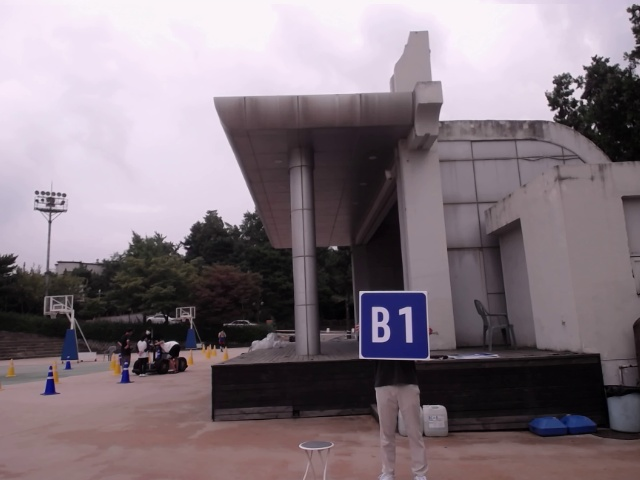delivery_b1: (360, 291, 429, 360)
